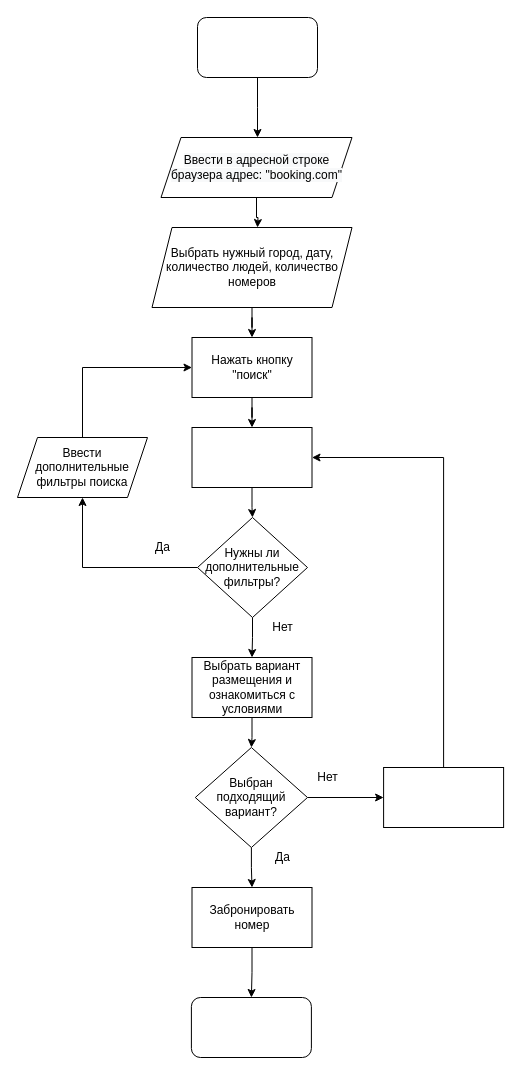
Some shapes in this 522 by 1075 pixel diagram are drawn without their labels. The shapes that lost their labels are listed below. From the top down, each one's centre as x and y in pixels, then its label:
At (x=257, y=47): "Начало".
At (x=251, y=457): "Ознакомиться с предложенными вариантами".
At (x=443, y=797): "Вернуться к выбору вариантов".
At (x=250, y=1027): "Конец".
